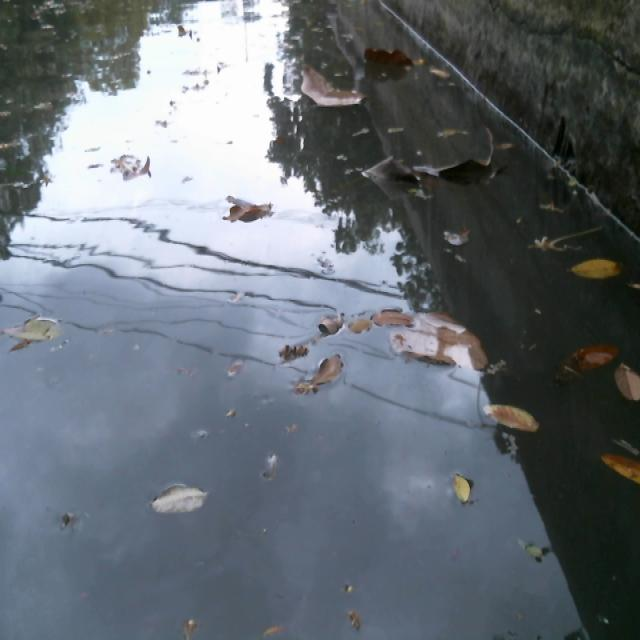Big-leaf: (392, 307, 492, 382), (417, 128, 507, 187), (357, 146, 425, 210), (297, 61, 367, 110), (362, 39, 425, 77)
Small-leaf: (479, 397, 542, 437), (0, 311, 66, 347), (148, 482, 213, 516), (558, 342, 622, 374), (602, 449, 640, 498), (107, 151, 158, 184), (448, 468, 481, 515), (223, 201, 282, 227), (308, 351, 349, 387), (608, 358, 640, 404), (569, 255, 623, 281), (440, 223, 478, 250)
